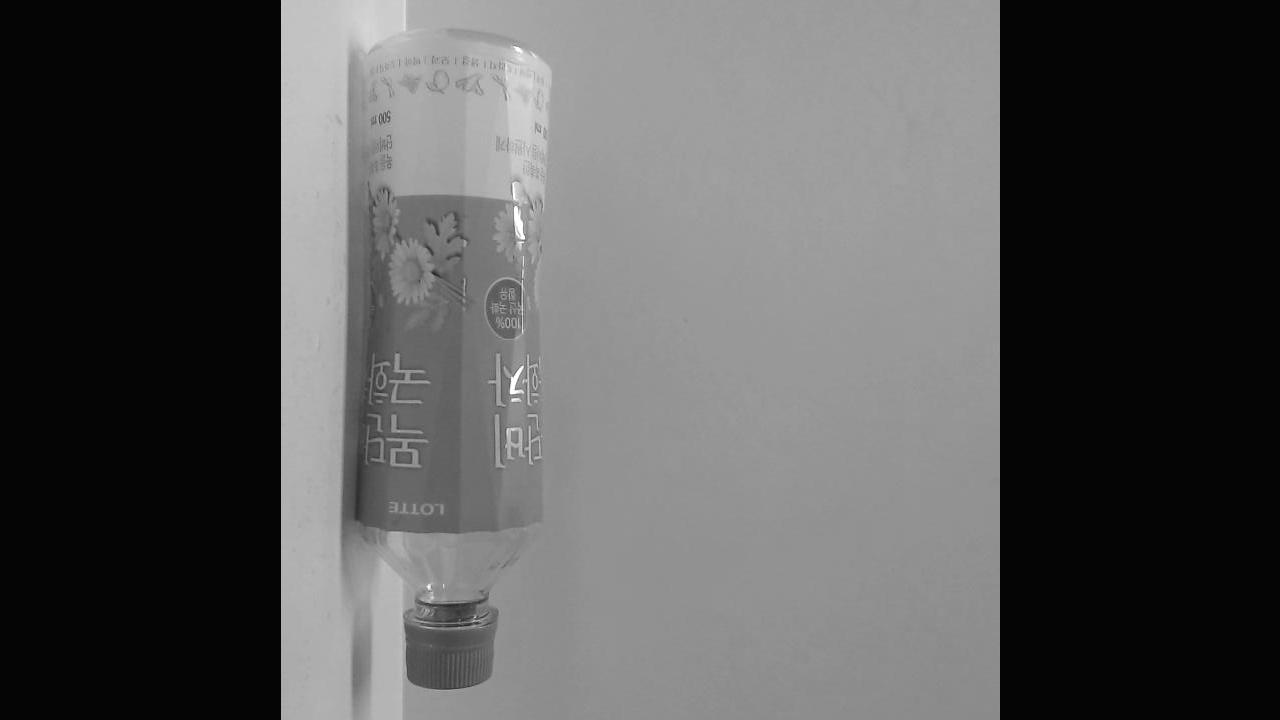bottle: (326, 12, 582, 720)
